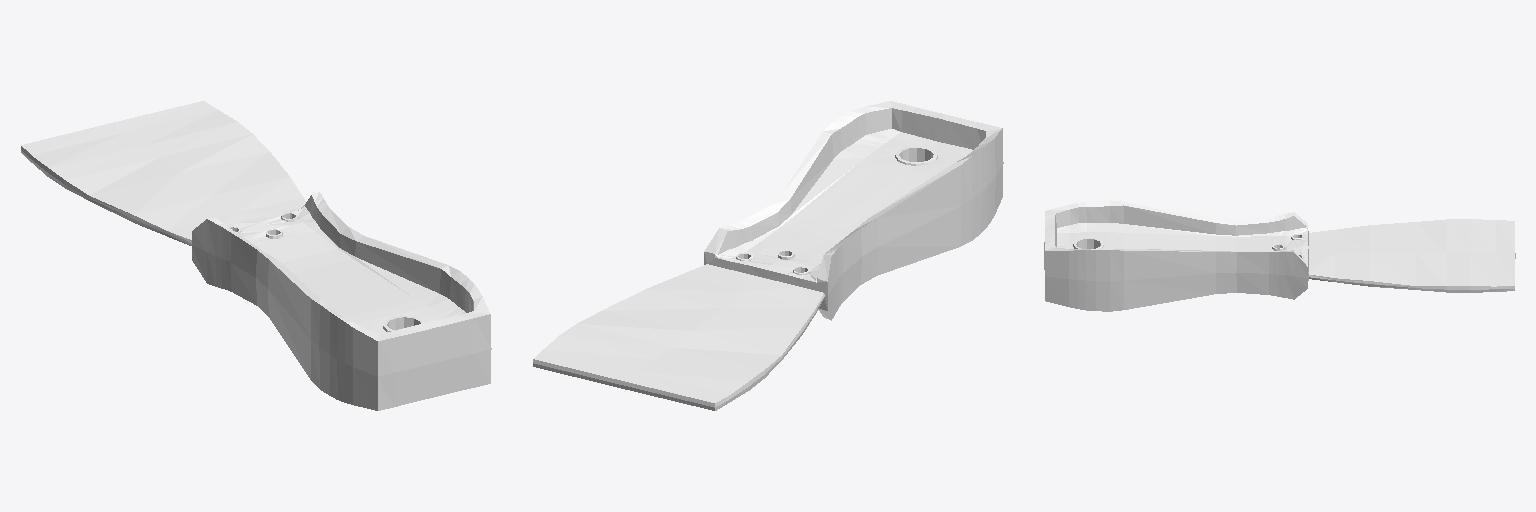
URDF robot description (plaster_spatula):
<?xml version="1.0" ?>
<robot name="plaster_spatula">
  <link name="base">
    <inertial>
        <origin rpy="0 0 0" xyz="0 0 0"/>
        <mass value="1.0"/>
        <inertia ixx="1" ixy="0" ixz="0" iyy="1" iyz="0" izz="1"/>
    </inertial>
   <visual>
     <origin rpy="0 0 0" xyz="0 0 0"/>
     <geometry>
       <mesh filename="plaster_spatula.obj" scale="1 1 1"/>
     </geometry>
      <material name="white">
       <color rgba="1 1 1 1"/>
     </material>
   </visual>
   <collision>
     <origin rpy="0 0 0" xyz="0 0 0"/>
     <geometry>
       <mesh filename="plaster_spatula_vhacd.obj" scale="1 1 1"/>
     </geometry>
   </collision>
  </link>
  <link name="grasp">
    <inertial>
      <origin rpy="0 0 0" xyz="0 0 0"/>
       <mass value="0.0"/>
       <inertia ixx="1" ixy="0" ixz="0" iyy="1" iyz="0" izz="1"/>
    </inertial>
  </link>
  <joint name="base__grasp" type="fixed">
    <origin xyz="0.0 -0.04 0.0" rpy="0.0 0.0 0.0"/>
    <parent link="base"/>
    <child link="grasp"/>
  </joint>
</robot>

--- Facts derived from the render (not from the file) ---
The picture shows the robot from 3 angles, left to right: view 1: azimuth 30°, elevation 25°; view 2: azimuth 150°, elevation 25°; view 3: azimuth 270°, elevation 25°; orthographic projection.
Robot: plaster_spatula — 2 links, 1 joints (1 fixed); root link base; default pose: all joints at 0.
Links seen in each view (by area): view 1: base; view 2: base; view 3: base.
Link boxes in pixels (x1=…): base: x1=21, y1=101, x2=491, y2=410; base: x1=533, y1=101, x2=1003, y2=410; base: x1=1044, y1=200, x2=1515, y2=311.
Bounding box of the posed robot: 0.068 × 0.2 × 0.029 m (x, y, z).
Meshes: 1 distinct files referenced, 1 mesh visuals loaded (1 OBJ).